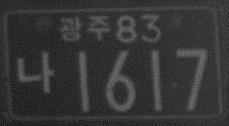1: (75, 48, 93, 115), (149, 47, 165, 115)
3: (138, 11, 162, 43)
6: (104, 49, 137, 114)
7: (174, 47, 210, 113)
8: (115, 13, 137, 44)
광주_O: (57, 13, 112, 42)
나: (15, 50, 55, 96)
